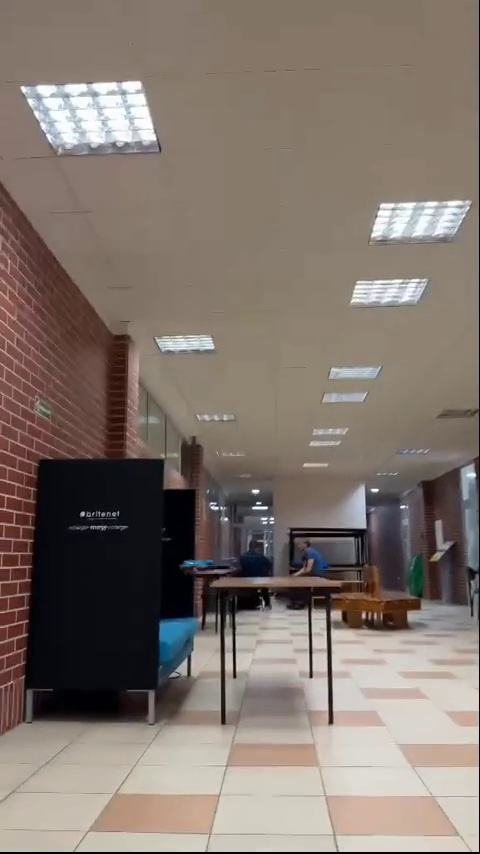drone: (177, 559, 222, 574)
no vest: (241, 539, 276, 580), (294, 538, 324, 578)
